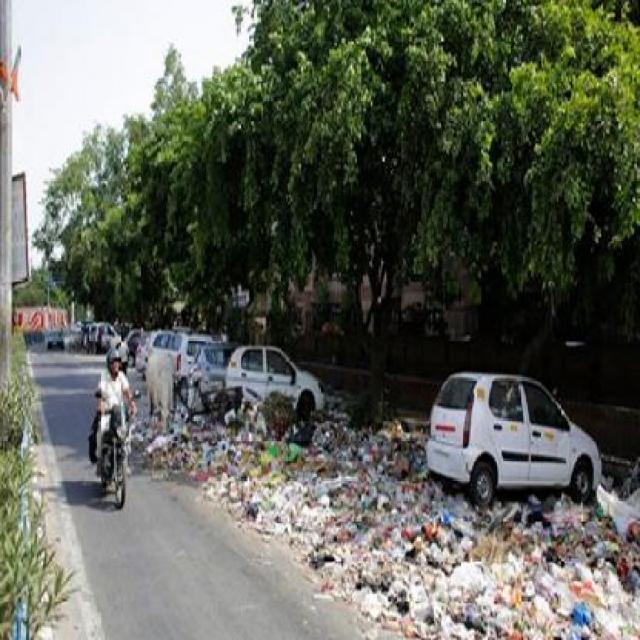garbage: (347, 509, 640, 638), (209, 428, 433, 489), (232, 392, 416, 464), (274, 486, 402, 554), (157, 430, 267, 476)
